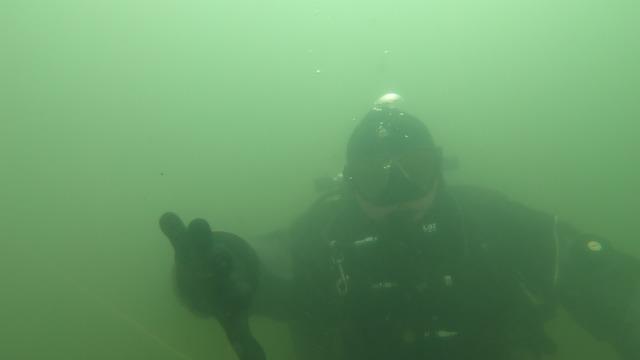Diver: (153, 68, 636, 355)
Hand: (145, 201, 284, 346)
Head: (319, 85, 461, 262)
